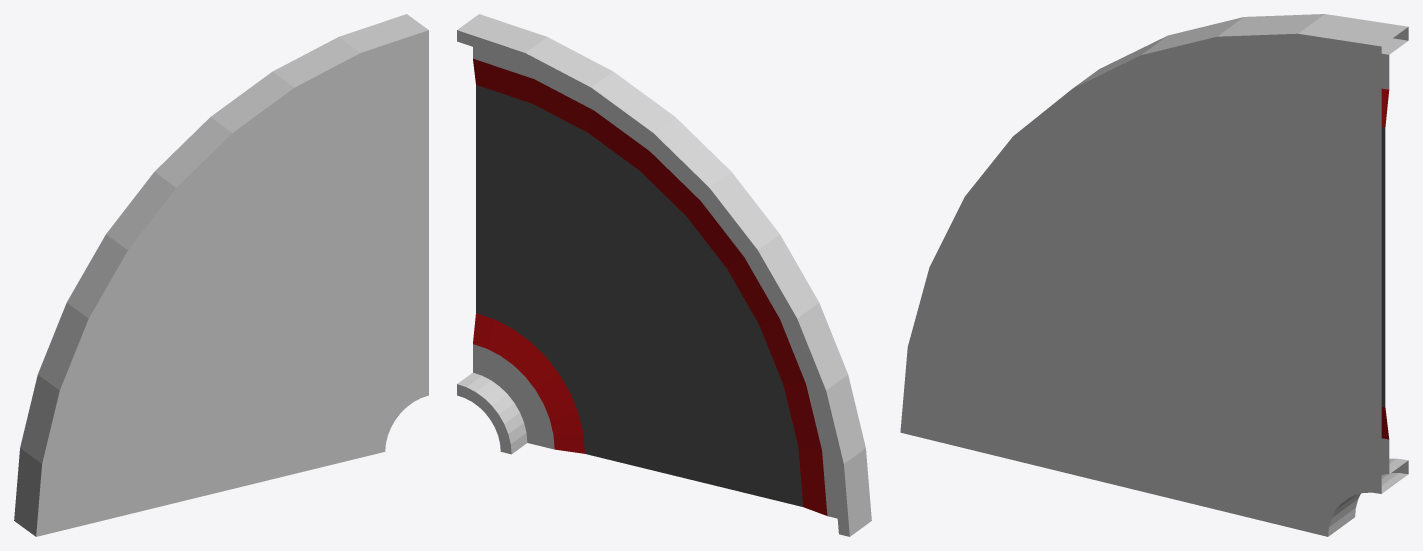
The model's file is Corner_Flat.fbx.
3 renders of one model, left to right at view 1: azimuth 30°, elevation 25°; view 2: azimuth 150°, elevation 25°; view 3: azimuth 330°, elevation 25°, orthographic. The views are drawn at different scales.
Visible parts, largest first — view 1: Corner_Flat; view 2: Corner_Flat; view 3: Corner_Flat.
Boxes of the visible parts, x1,y1,x2,y2 form: Corner_Flat: (14,14,428,536); Corner_Flat: (457,14,871,536); Corner_Flat: (900,14,1408,536).
Bounding box in the file's own units: 1440 × 1440 × 140.
